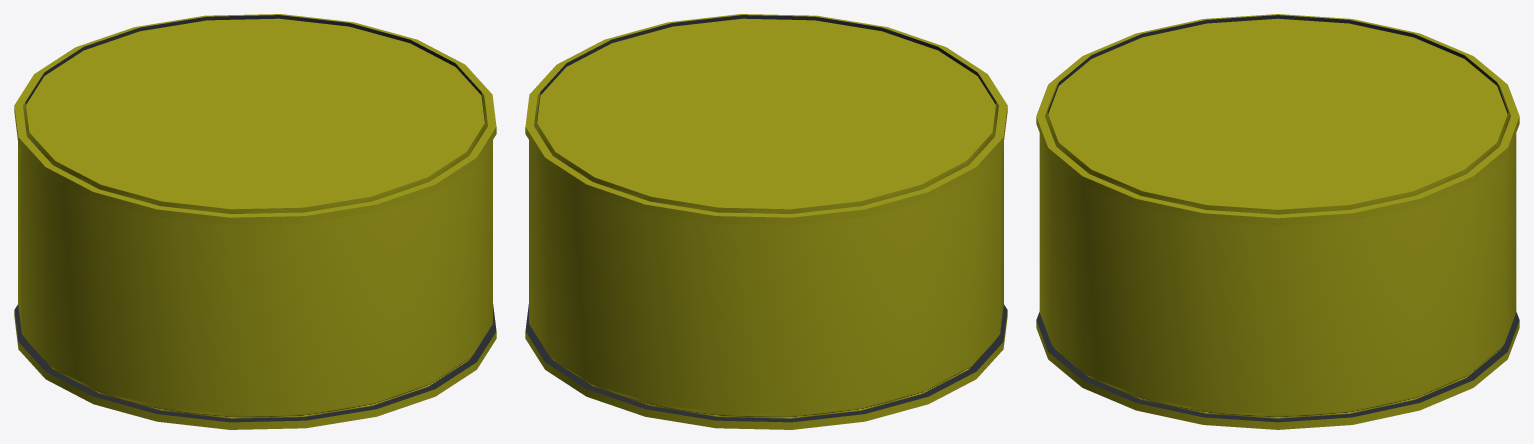
File: Garage_Gracyn.fbx
3 views of the same model, side by side, from view 1: azimuth 30°, elevation 25°; view 2: azimuth 150°, elevation 25°; view 3: azimuth 270°, elevation 25° (orthographic).
Parts seen in each view (by area): view 1: Garage; view 2: Garage; view 3: Garage.
Part boxes in pixels (bbox=[...]): Garage: bbox=[14, 14, 496, 429]; Garage: bbox=[525, 14, 1007, 429]; Garage: bbox=[1036, 14, 1519, 429].
Size of the model in its own units: 40.08 by 19.7 by 40.08.
